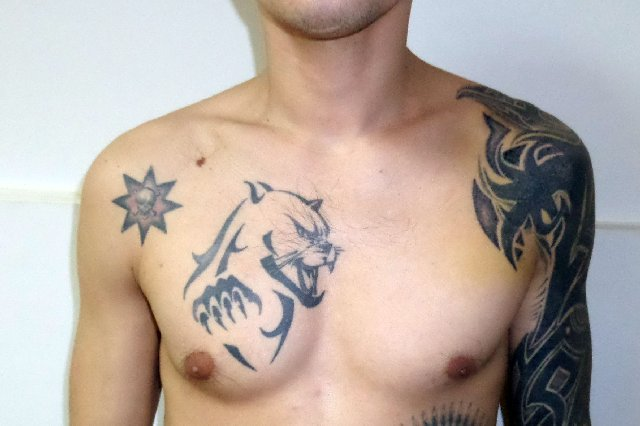tatu4_zvezda: (114, 166, 182, 244)
tatu5_tigr: (187, 173, 347, 373)
